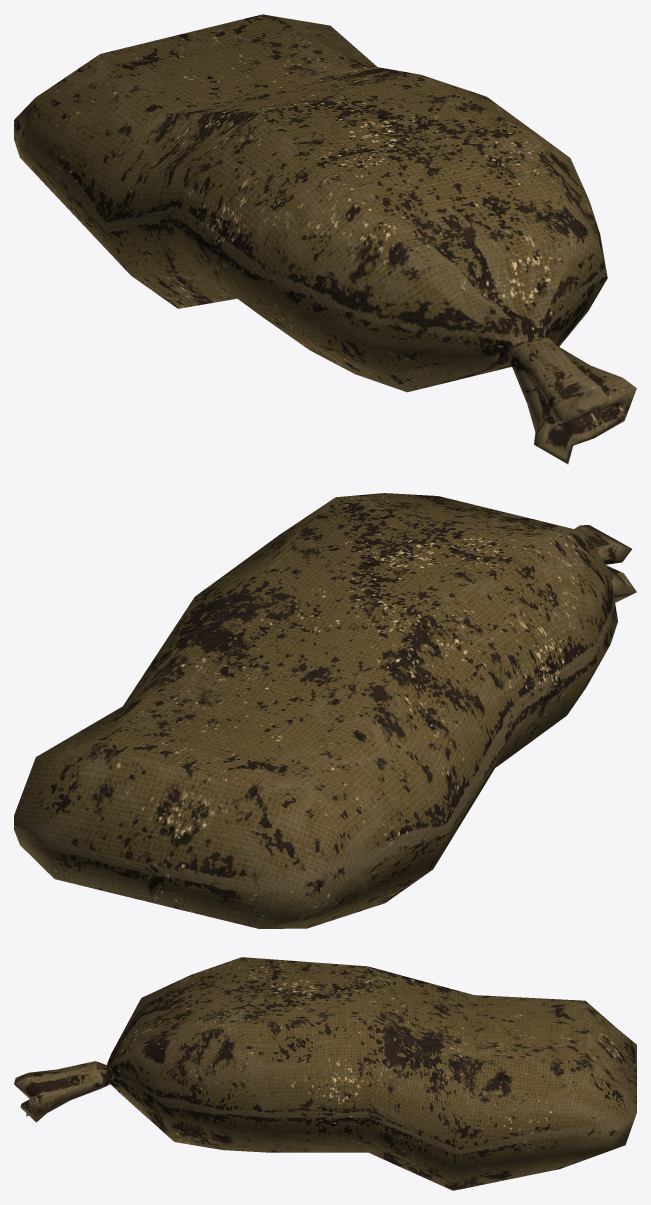
File: bag_4.fbx
3 renders of one model, top to bottom at view 1: azimuth 30°, elevation 25°; view 2: azimuth 150°, elevation 25°; view 3: azimuth 270°, elevation 25°, orthographic. The views are drawn at different scales.
Visible parts, largest first — view 1: bag_4; view 2: bag_4; view 3: bag_4.
Part boxes in pixels (x1,y1,x2,y2): bag_4: [14, 14, 636, 464]; bag_4: [14, 493, 636, 928]; bag_4: [14, 957, 636, 1190].
Size of the model in its own units: 48.23 by 32.56 by 111.
Materials: 1 (1 with a texture image).
